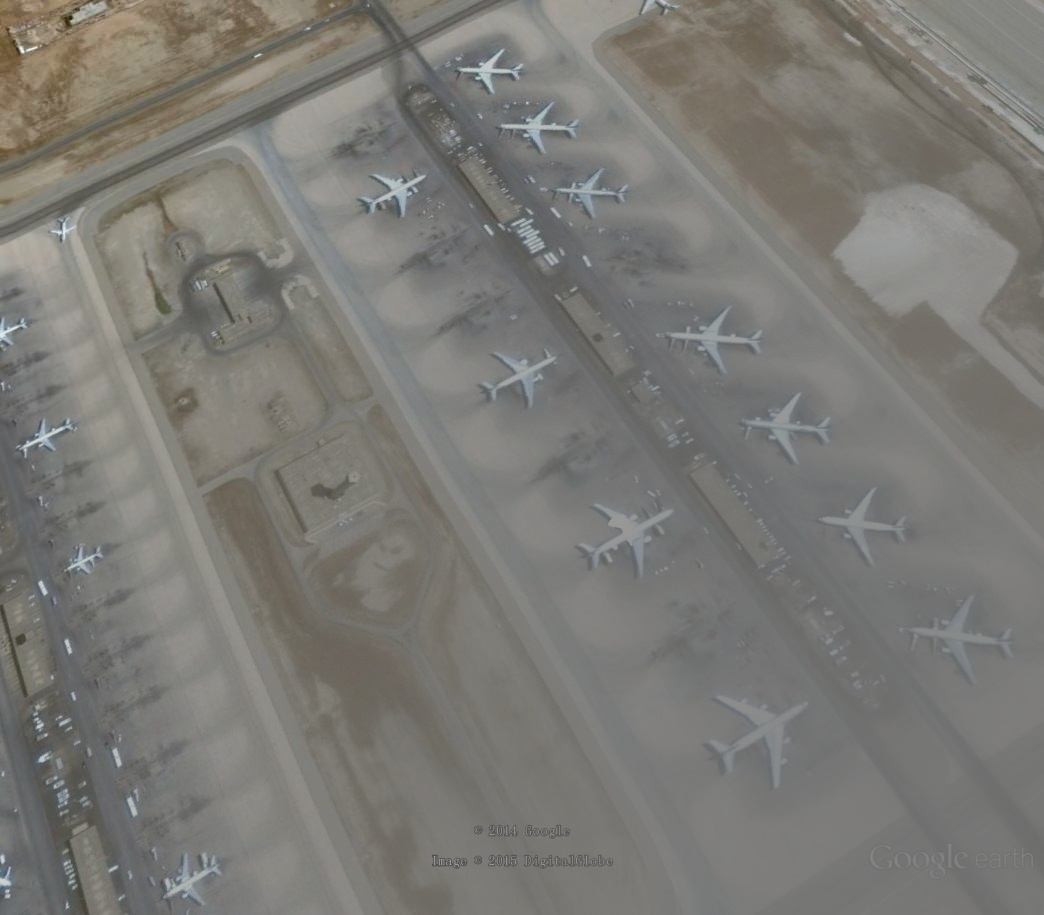aircraft: (904, 594, 1016, 688), (704, 695, 811, 792), (573, 501, 676, 580), (816, 487, 909, 570), (738, 390, 835, 467), (663, 304, 766, 375), (476, 352, 560, 412), (497, 100, 580, 158), (552, 167, 632, 220), (455, 48, 528, 97), (161, 853, 225, 907), (358, 173, 428, 220), (18, 417, 76, 454), (65, 546, 106, 576), (1, 315, 29, 349), (49, 216, 77, 243)
